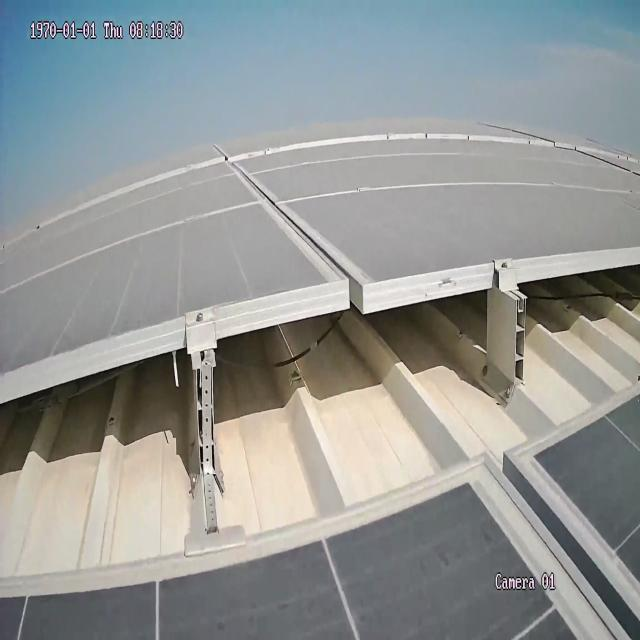interior panel: (475, 458, 640, 638), (225, 167, 364, 279)
outher panel: (0, 246, 637, 579)
